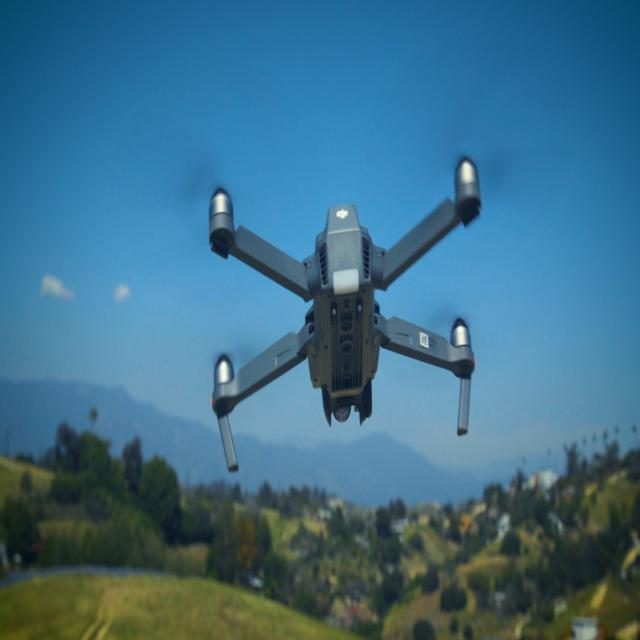drone: (162, 111, 524, 490)
